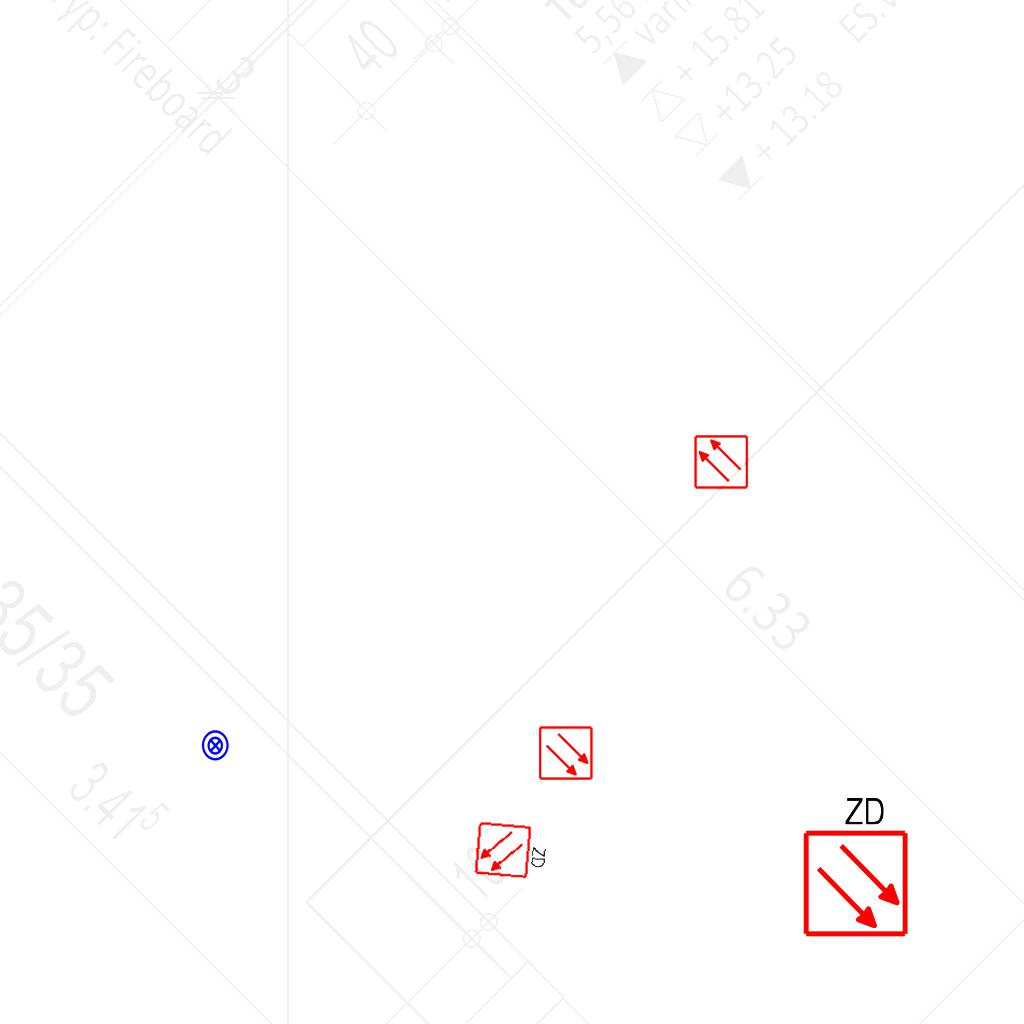RMO_Rauchmelder_optischer: (693, 434, 749, 490), (538, 725, 594, 781)
Taster_beleuchtet: (199, 729, 232, 762)
ZD_Melder_in_Zwischendecke_mit_Revisionsoeffnung_mind_40_x_40_cm: (797, 790, 911, 939), (473, 818, 552, 882)
